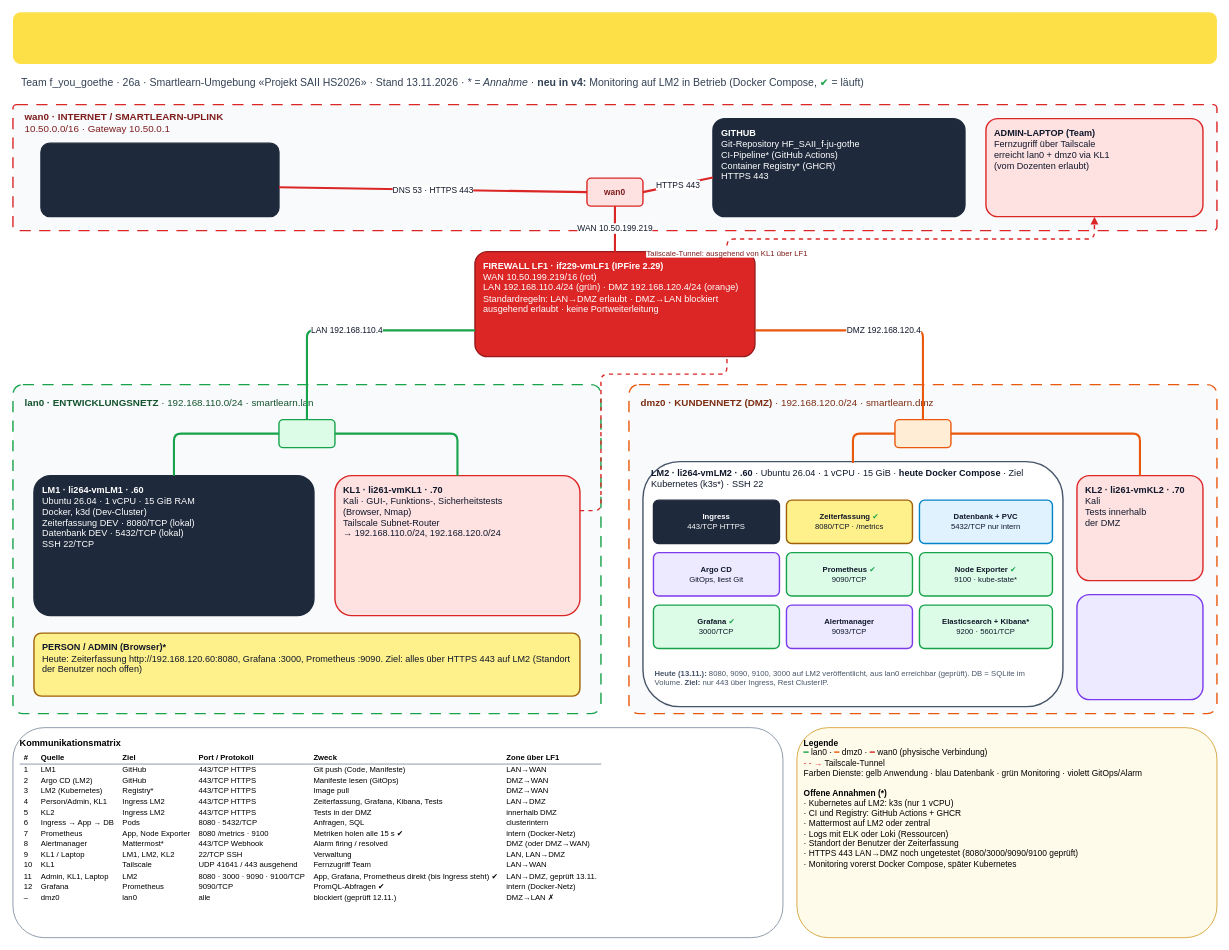
This 1229x950 diagram has some shape labels left out. The centre of each missing label's shape, as x and y in pixels:
"dmz0" belongs at (x=922, y=433).
"lan0" belongs at (x=306, y=433).
"MATTERMOST* 8065/TCP auf LM2 oder zentral (offen)" belongs at (x=1139, y=647).
"NETZWERKPLAN v4 | SAII – Zeiterfassung" belongs at (x=615, y=38).
"ÖFFENTLICHE DIENSTE DNS 9.9.9.9 · 149.112.112.112 Paketquellen (apt), Tailscale" belongs at (x=159, y=179).
